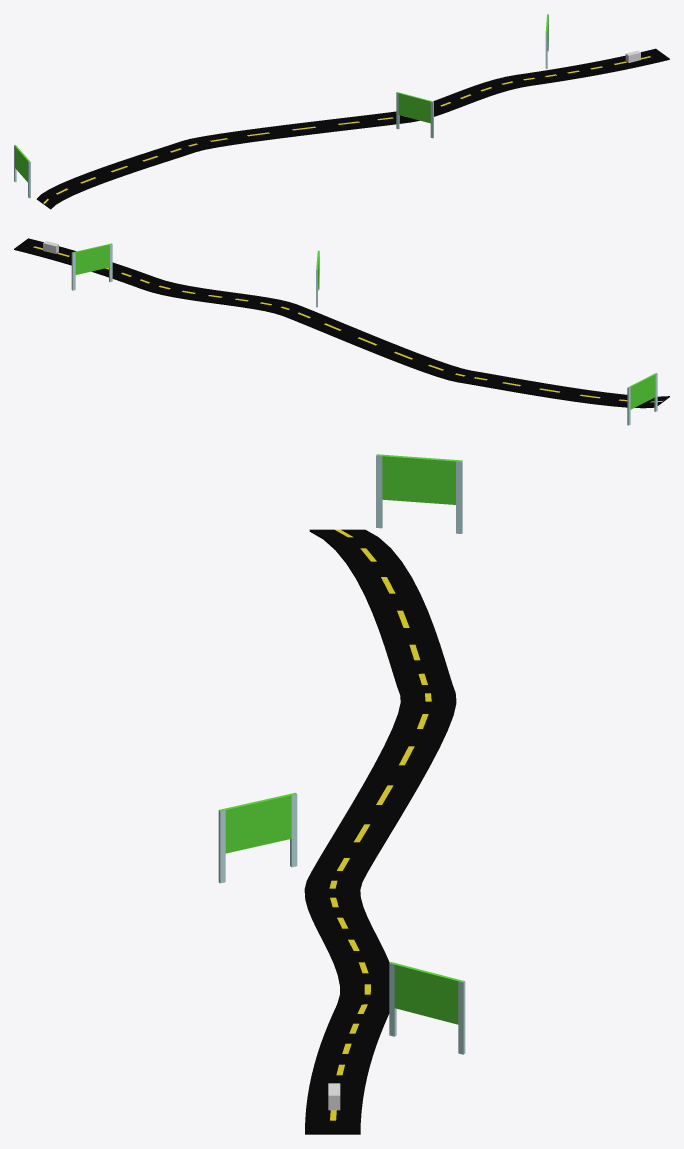
Rendered from roadScene.glb.
The picture shows the model from 3 angles, top to bottom: view 1: azimuth 30°, elevation 25°; view 2: azimuth 150°, elevation 25°; view 3: azimuth 270°, elevation 25°; orthographic projection. The views are drawn at different scales.
Visible parts, largest first — view 1: road, sign2, sign3; view 2: road, sign, sign3; view 3: road, sign3, sign2, sign.
Part boxes in pixels (<box>): road: <box>36,48,669,209</box>; sign2: <box>396,92,433,138</box>; sign3: <box>14,145,30,198</box>; road: <box>14,238,669,408</box>; sign: <box>71,243,112,290</box>; sign3: <box>627,373,657,425</box>; road: <box>304,529,456,1134</box>; sign3: <box>376,454,462,533</box>; sign2: <box>218,792,297,883</box>; sign: <box>389,962,465,1054</box>.
Bounding box in the file's own units: 32.96 × 1.83 × 5.66.
